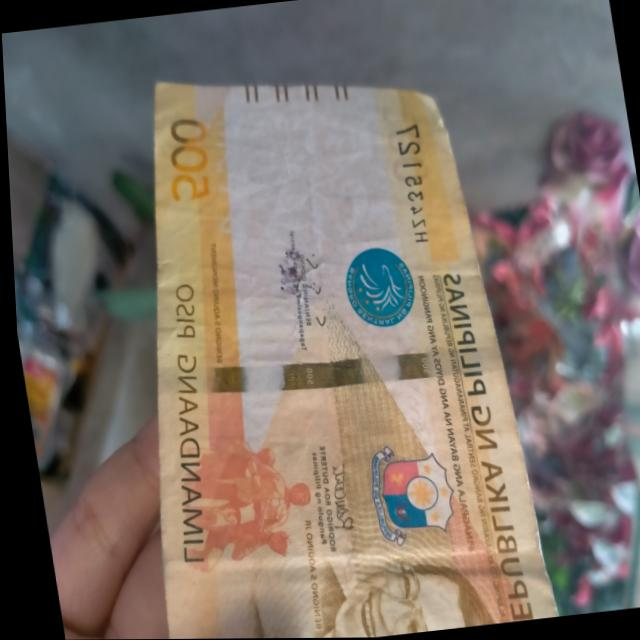security_thread: (147, 328, 504, 412)
serial_number: (382, 123, 445, 262)
watermark: (222, 97, 403, 258)
